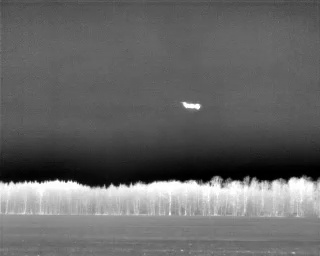DRONE: (178, 96, 205, 115)
